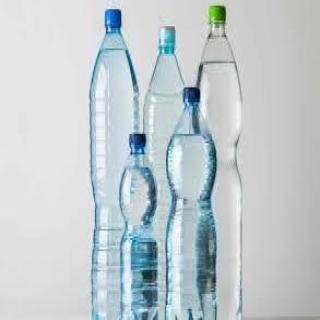Plastic-bottle: (192, 3, 247, 320), (88, 8, 143, 320), (142, 23, 193, 320), (165, 88, 219, 320), (118, 131, 161, 320)
